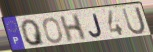4: (108, 9, 125, 37)
H: (58, 13, 88, 43)
J: (88, 13, 103, 38)
O: (42, 16, 64, 44)
Q: (20, 18, 47, 47)
U: (120, 6, 147, 36)
